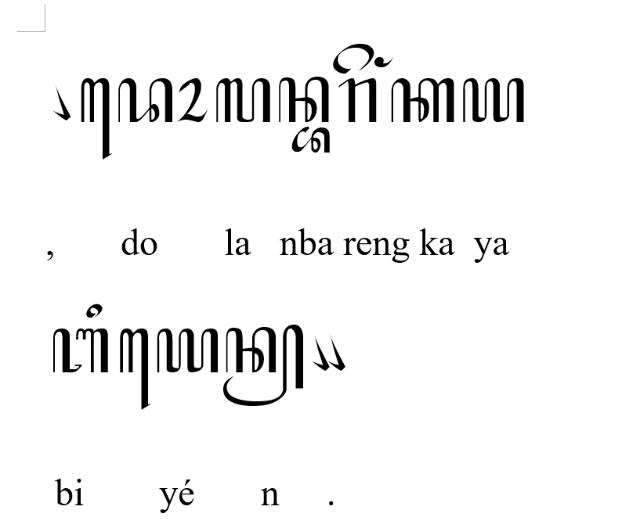-n: (222, 322, 304, 408)
_b: (290, 125, 332, 154)
b: (51, 328, 109, 375)
d: (118, 78, 172, 124)
e: (332, 42, 374, 74)
e1: (118, 328, 152, 412), (80, 76, 112, 162)
i: (86, 302, 102, 320)
k: (391, 78, 455, 124)
kom: (51, 83, 70, 121), (310, 337, 330, 373), (327, 336, 345, 372)
l: (215, 76, 271, 124)
n: (277, 76, 331, 124)
ng: (374, 54, 394, 68)
o: (176, 78, 208, 124)
r: (338, 78, 378, 124)
y: (462, 78, 526, 124), (156, 329, 218, 375)
